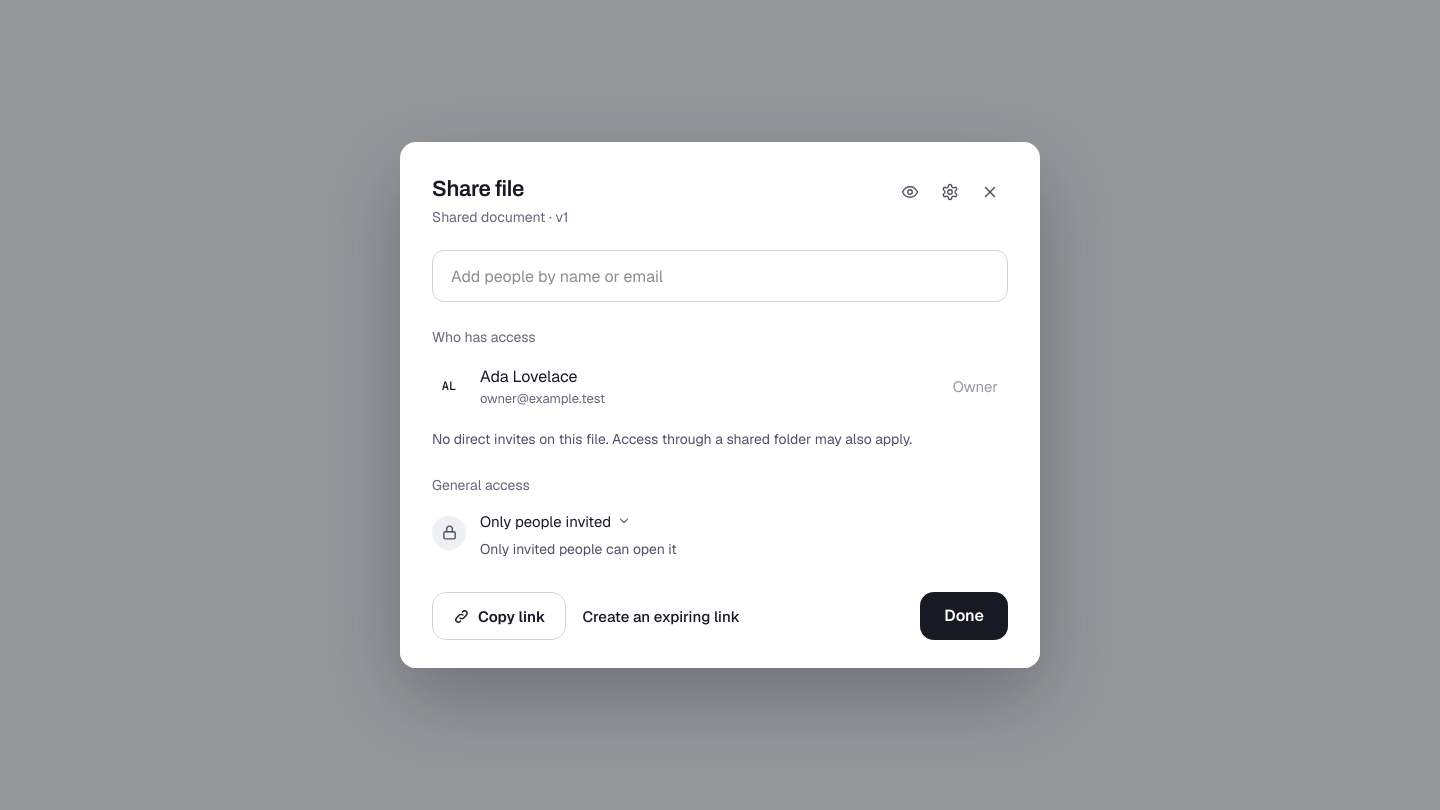
ShareDialog › says nobody has opened it yet in the Viewer activity popover
The image size is (1440, 810).
Click the button named "Viewer activity" at (910,192), box x1=892 y1=174 x2=928 y2=210
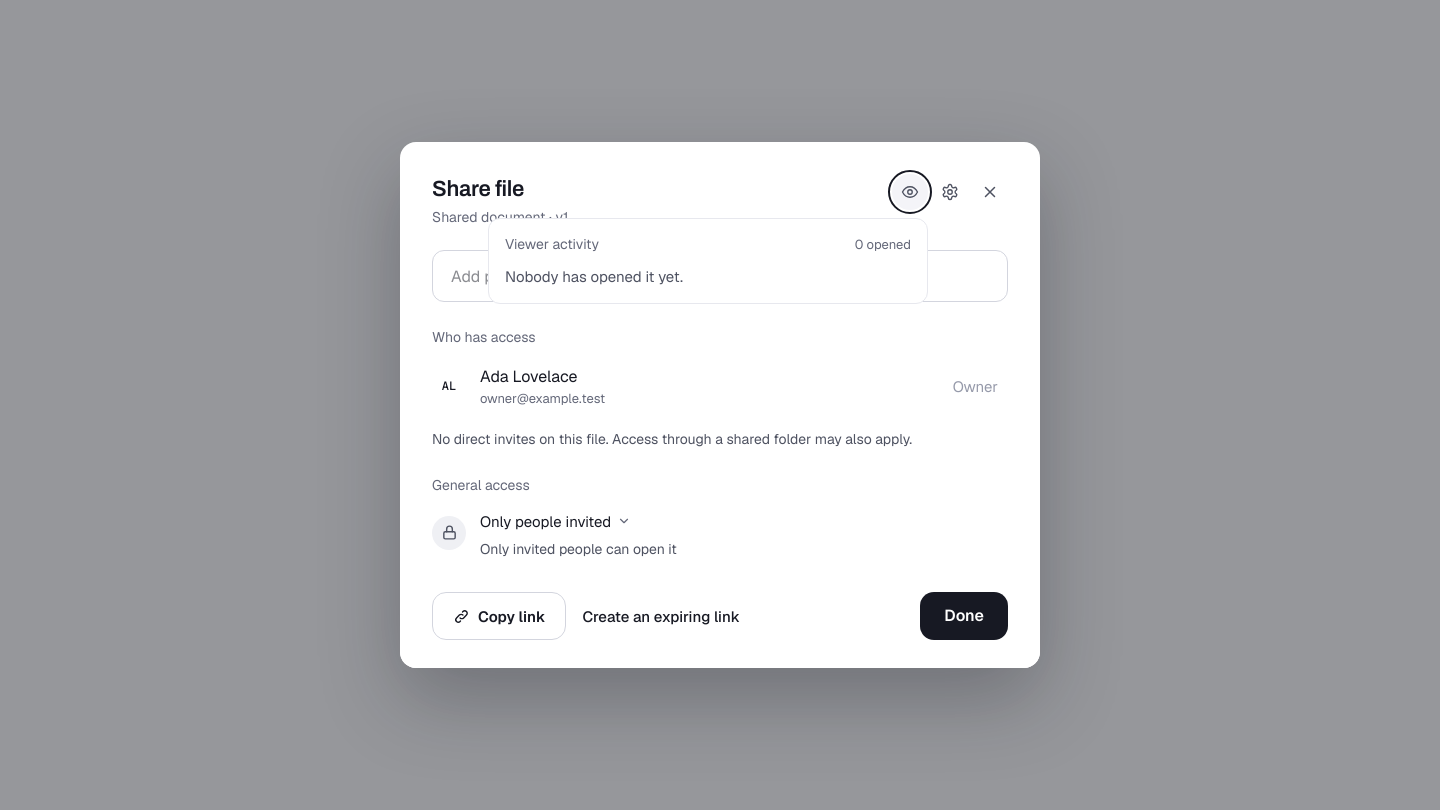
Check: the text "Nobody has opened it yet." is shown, box x1=505 y1=267 x2=683 y2=286
Check: the dialog "Viewer activity" shows "0 opened", box x1=488 y1=218 x2=928 y2=304
